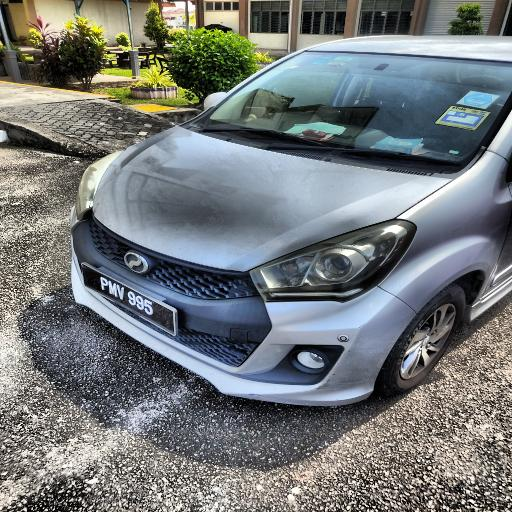license_plate: (81, 262, 176, 336)
